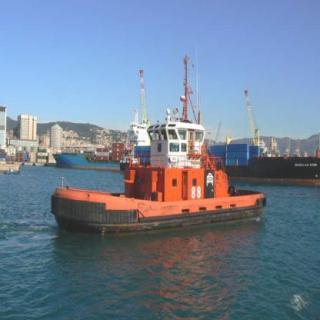Tug Boat: (50, 48, 263, 232)
